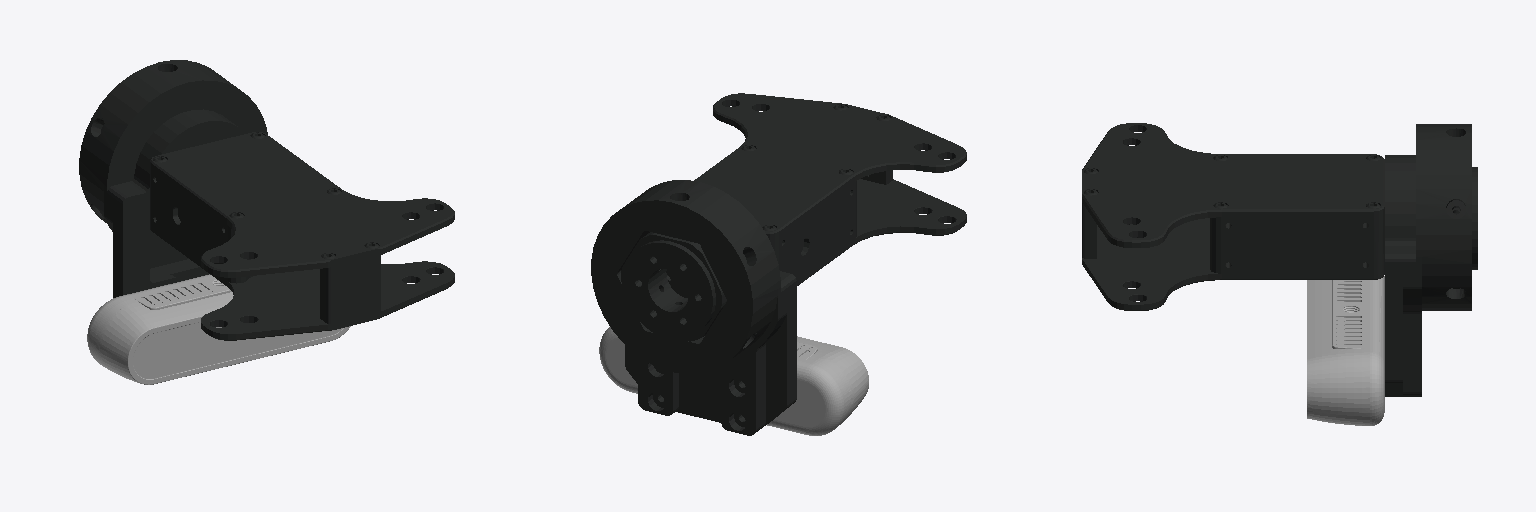
3 views of the same model, side by side, from view 1: azimuth 30°, elevation 25°; view 2: azimuth 150°, elevation 25°; view 3: azimuth 270°, elevation 25° (orthographic).
Visible parts, largest first — view 1: polySurface1 gripper_link; view 2: polySurface1 gripper_link; view 3: polySurface1 gripper_link.
Part boxes in pixels (left/top/right/bottom): polySurface1 gripper_link: left=79, top=60, right=454, bottom=384; polySurface1 gripper_link: left=591, top=93, right=966, bottom=435; polySurface1 gripper_link: left=1082, top=123, right=1477, bottom=425.
Size of the model in its own units: 0.09 by 0.0875 by 0.127.
1 materials, 1 textured.